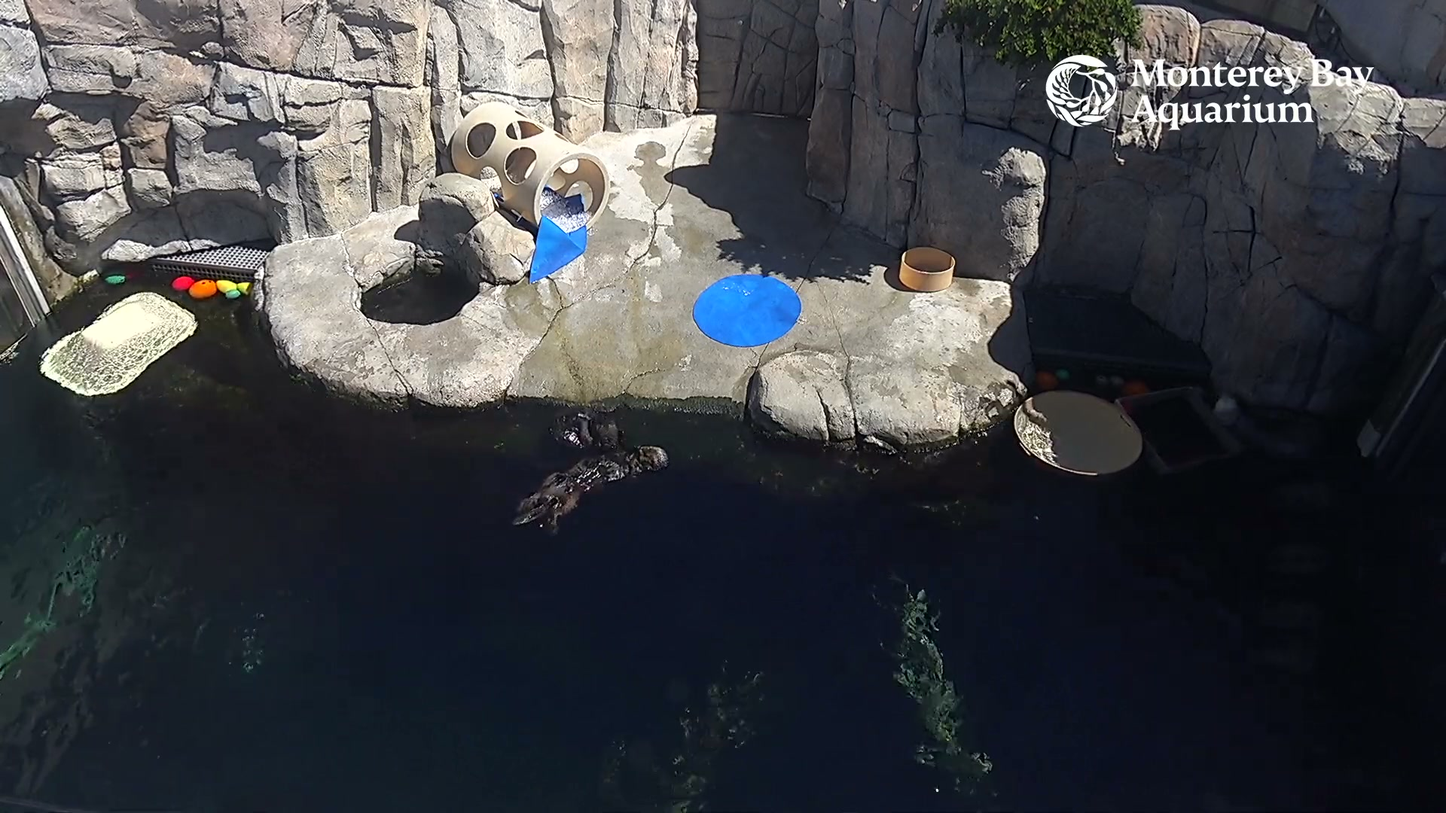Southern Sea Otter: (515, 442, 735, 601), (496, 359, 681, 460), (1210, 340, 1291, 505)
